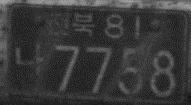1: (133, 13, 142, 39)
5: (116, 46, 144, 96)
7: (84, 45, 112, 95), (52, 43, 79, 90)
8: (148, 48, 176, 97), (104, 12, 124, 40)
나: (13, 40, 46, 77)
전북_O: (46, 11, 95, 36)
